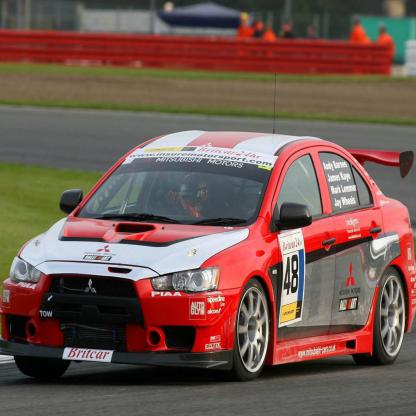car: (0, 129, 416, 384)
